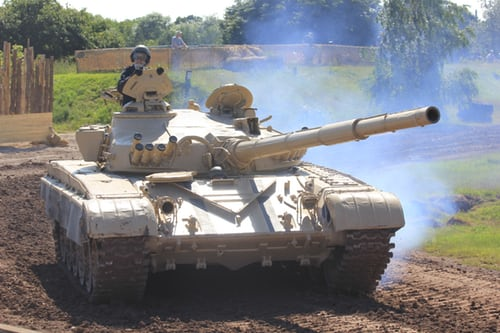t72: (48, 98, 411, 301)
